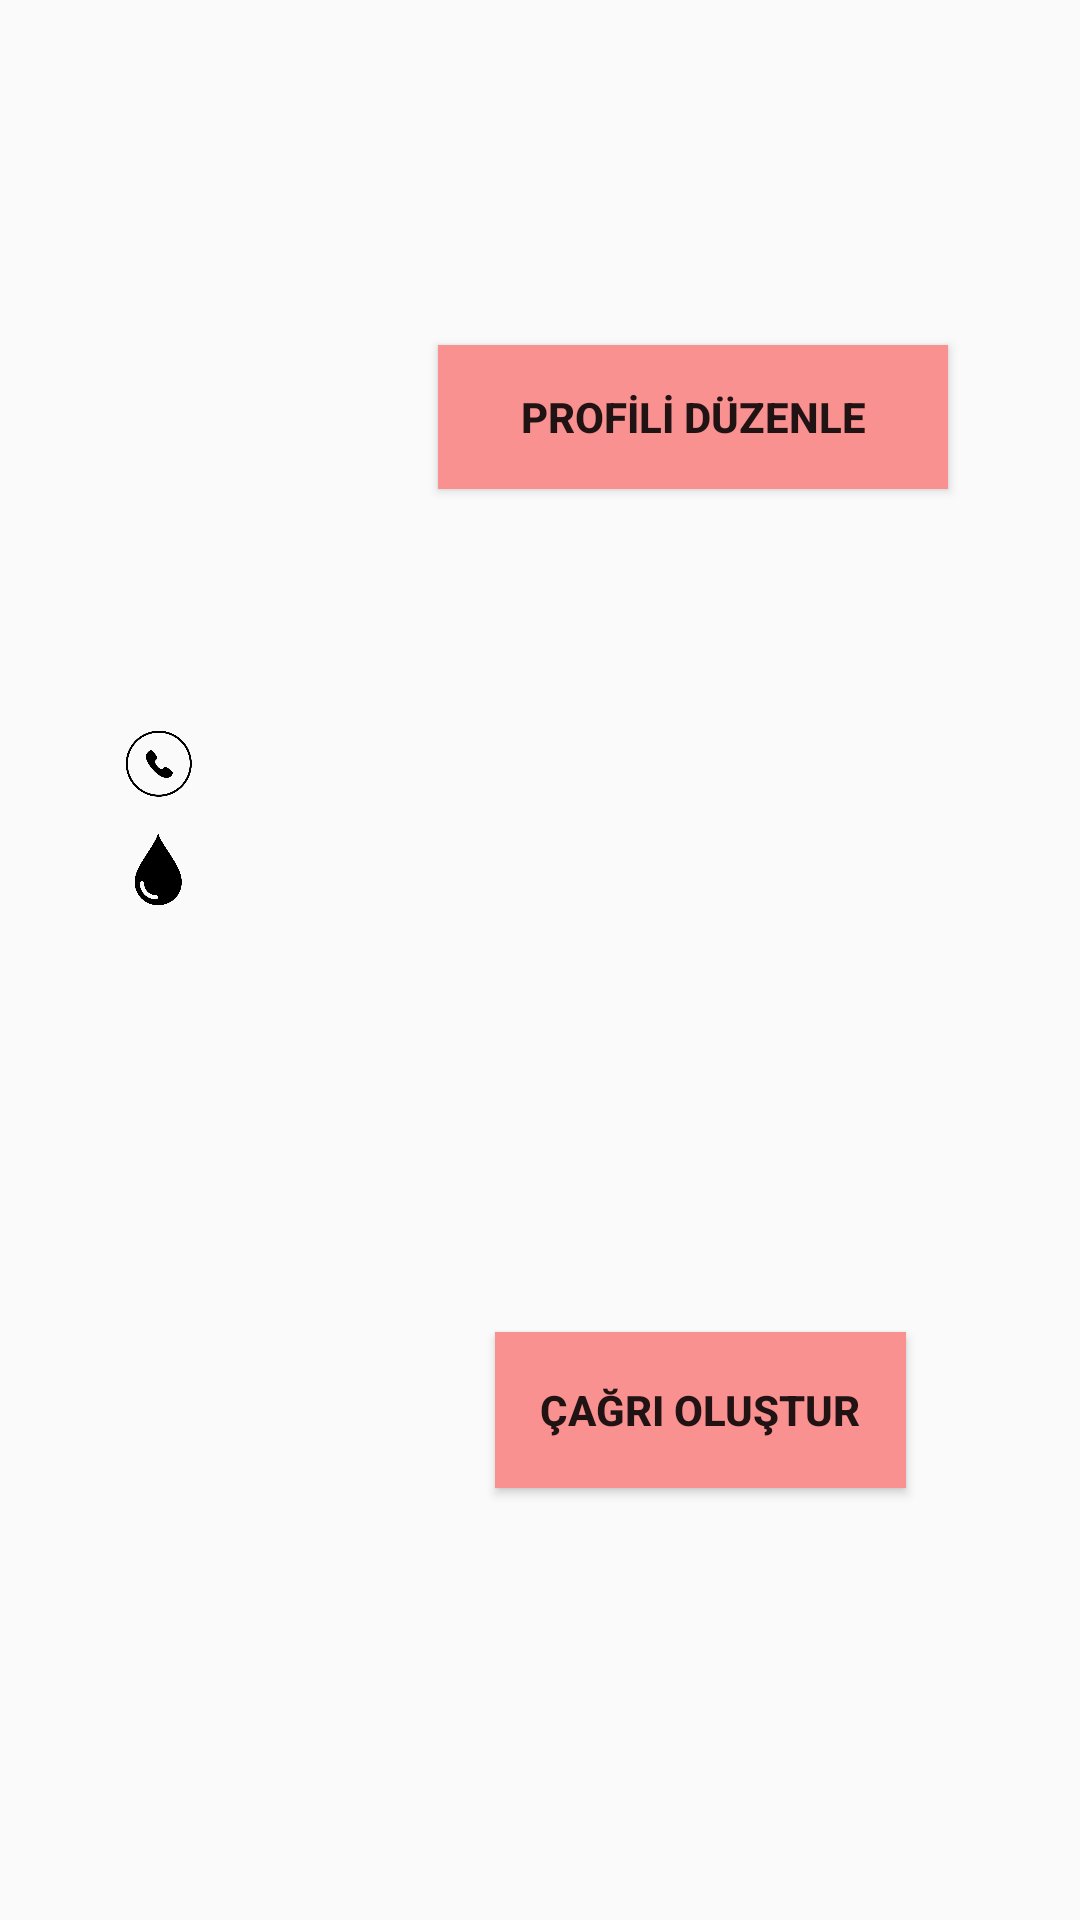

Where icons sit on this 1080 x 1920 app screen, as (x1, y1, x2, y2):
kangrubu: (135, 834, 182, 905)
telefon: (126, 731, 192, 797)
